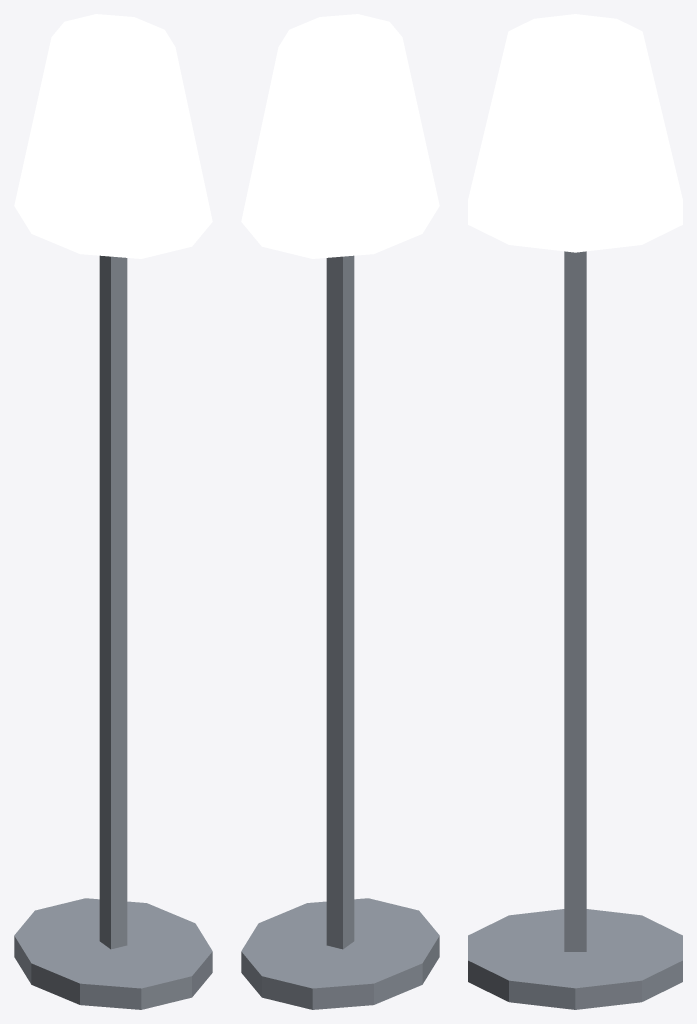
File: lampRoundFloor.glb
3 views of the same model, side by side, from view 1: azimuth 30°, elevation 25°; view 2: azimuth 150°, elevation 25°; view 3: azimuth 270°, elevation 25° (orthographic).
Parts seen in each view (by area): view 1: lampRoundFloor; view 2: lampRoundFloor; view 3: lampRoundFloor.
Boxes of the visible parts, left/top/right/bottom form: lampRoundFloor: left=14, top=14, right=212, bottom=1009; lampRoundFloor: left=241, top=14, right=439, bottom=1009; lampRoundFloor: left=468, top=14, right=682, bottom=1009.
Size of the model in its own units: 0.16 by 0.86 by 0.18.
1 material, 1 textured.
